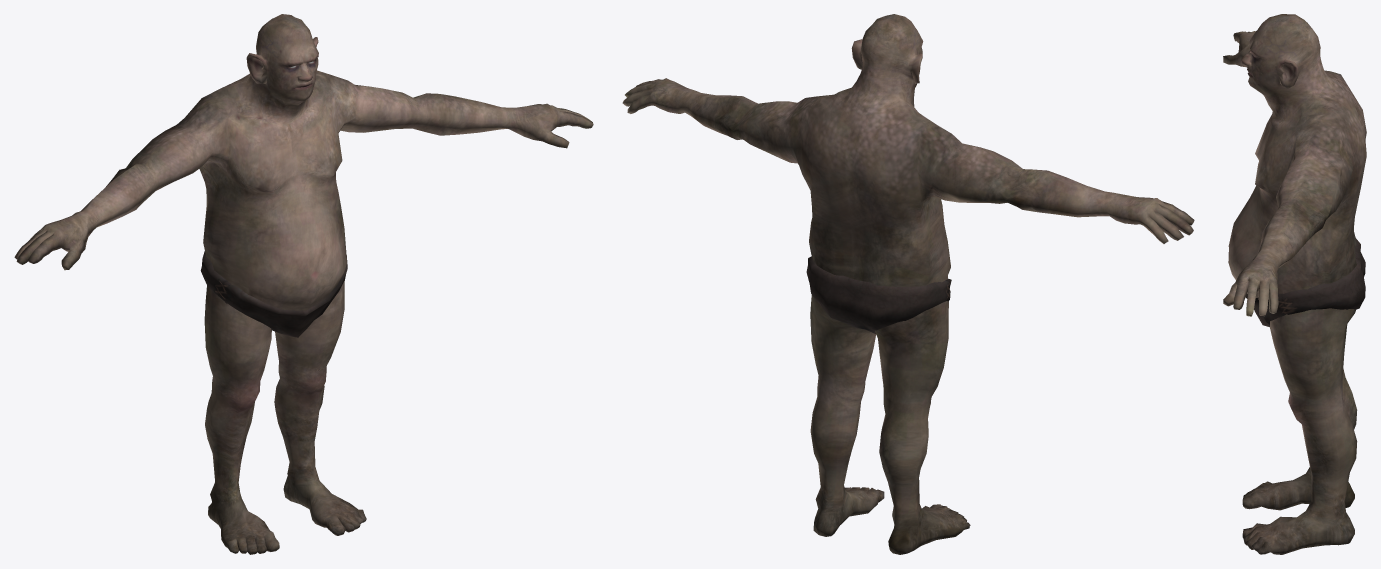
The model's file is Ogre.FBX.
3 views of the same model, side by side, from view 1: azimuth 30°, elevation 25°; view 2: azimuth 150°, elevation 25°; view 3: azimuth 270°, elevation 25° (orthographic).
Visible parts, largest first — view 1: Body_Ogre_Init; view 2: Body_Ogre_Init; view 3: Body_Ogre_Init.
Boxes of the visible parts, bbox=[...] form: Body_Ogre_Init: bbox=[14, 14, 593, 554]; Body_Ogre_Init: bbox=[622, 14, 1194, 554]; Body_Ogre_Init: bbox=[1223, 14, 1366, 554].
Bounding box in the file's own units: 244 × 208 × 53.11.
